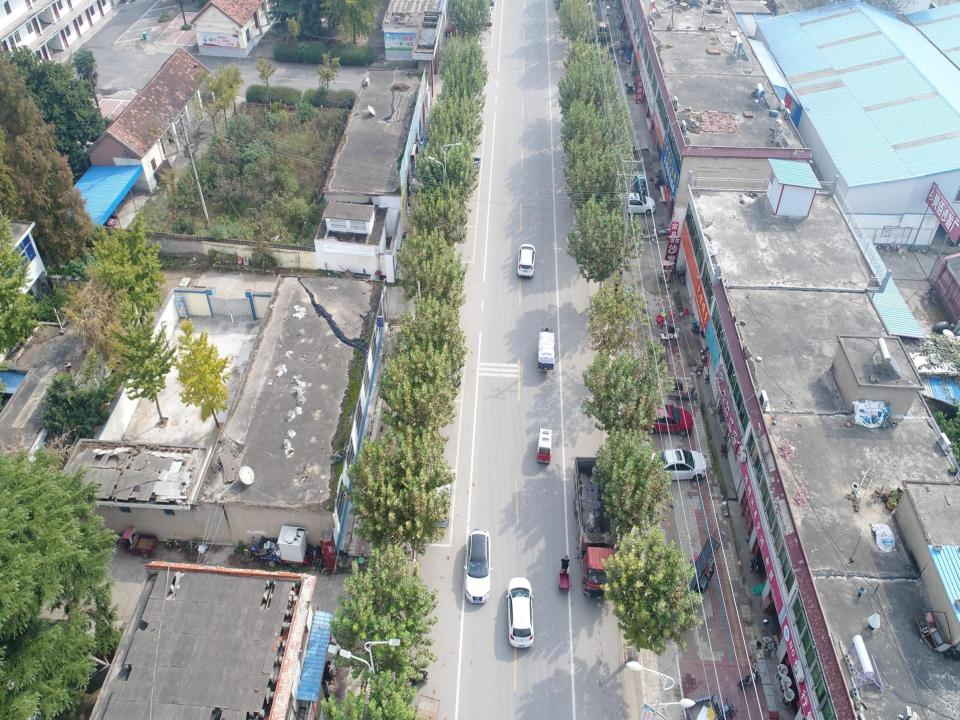car: (644, 448, 706, 488), (504, 576, 537, 646), (464, 528, 492, 606), (644, 408, 692, 438), (612, 194, 655, 219), (515, 245, 537, 277)
truck: (575, 454, 620, 600), (536, 425, 554, 465), (581, 22, 611, 40)
